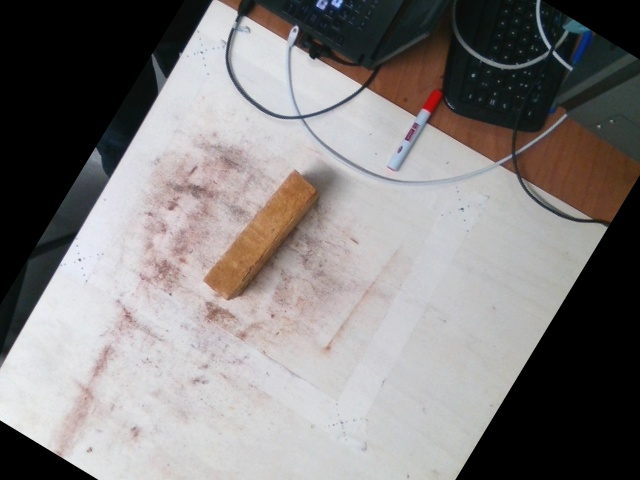brick-side: (204, 173, 314, 297)
